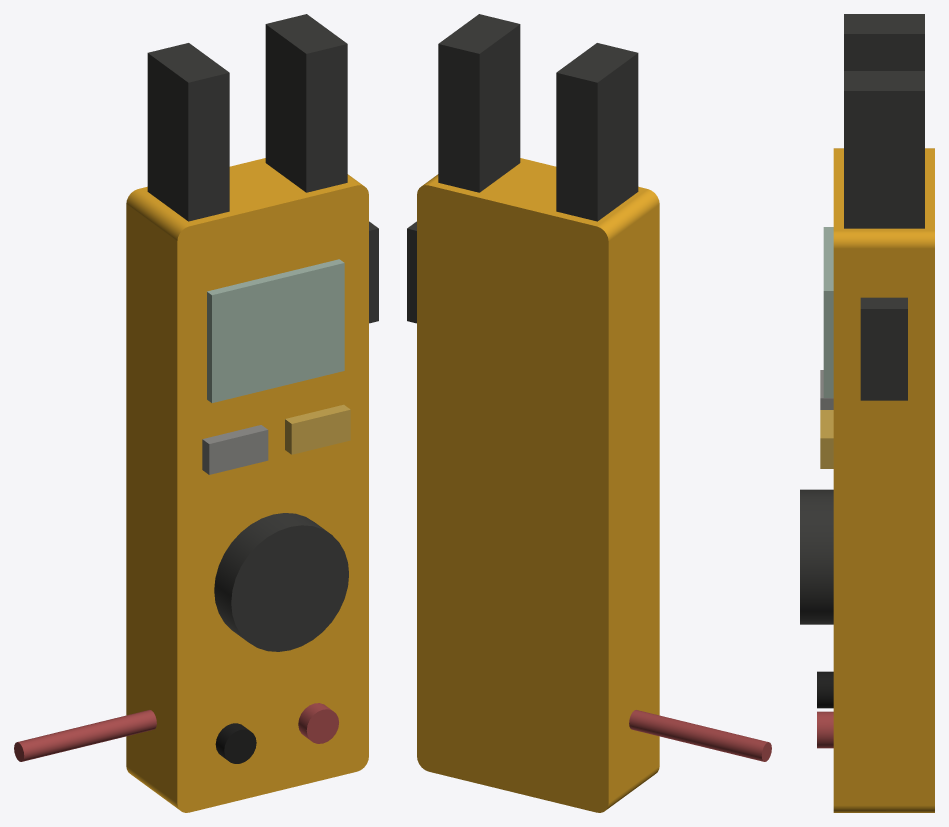
The model's file is digital_clamp_meter.glb.
The picture shows the model from 3 angles, left to right: view 1: azimuth 30°, elevation 25°; view 2: azimuth 150°, elevation 25°; view 3: azimuth 270°, elevation 25°; orthographic projection.
Visible parts, largest first — view 1: body, lcd_display, rotary_switch, fixed_jaw, movable_jaw, test_leads, hold_button, select_button, vohm_jack, com_jack, trigger; view 2: body, fixed_jaw, movable_jaw, test_leads, trigger; view 3: body, movable_jaw, trigger, rotary_switch, fixed_jaw, lcd_display, select_button, vohm_jack, com_jack, hold_button.
Boxes of the visible parts, bbox=[...] form: body: bbox=[126, 158, 368, 812]; lcd_display: bbox=[207, 259, 344, 402]; rotary_switch: bbox=[214, 513, 348, 651]; fixed_jaw: bbox=[147, 43, 229, 221]; movable_jaw: bbox=[265, 14, 347, 192]; test_leads: bbox=[14, 710, 156, 761]; hold_button: bbox=[202, 425, 268, 474]; select_button: bbox=[285, 404, 350, 454]; vohm_jack: bbox=[298, 703, 338, 743]; com_jack: bbox=[215, 723, 256, 763]; trigger: bbox=[369, 221, 378, 323]; body: bbox=[417, 158, 659, 812]; fixed_jaw: bbox=[556, 43, 638, 221]; movable_jaw: bbox=[438, 14, 520, 192]; test_leads: bbox=[629, 710, 771, 761]; trigger: bbox=[407, 221, 416, 323]; body: bbox=[833, 148, 934, 812]; movable_jaw: bbox=[844, 71, 924, 228]; trigger: bbox=[860, 297, 907, 400]; rotary_switch: bbox=[800, 489, 833, 624]; fixed_jaw: bbox=[844, 14, 924, 70]; lcd_display: bbox=[823, 227, 833, 397]; select_button: bbox=[820, 410, 833, 468]; vohm_jack: bbox=[817, 711, 833, 748]; com_jack: bbox=[817, 671, 833, 708]; hold_button: bbox=[820, 370, 833, 409].
Size of the model in its own units: 0.118 by 0.235 by 0.04.
